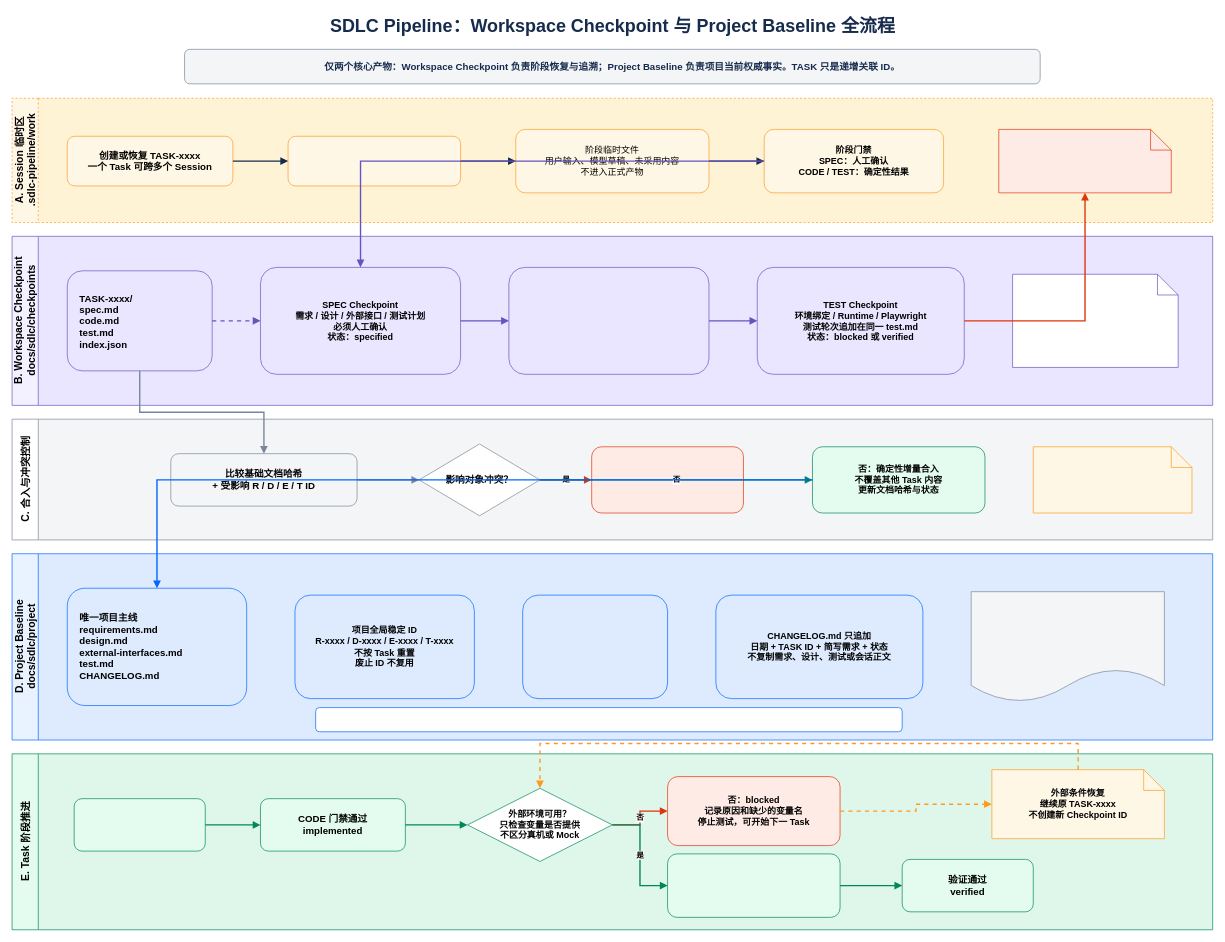
The diagram is 1225 pixels wide and 942 high, and some of its shapes have lost their labels. The centre of each missing label's shape, as x and y in pixels:
Checkpoint 写入成功后 删除对应 Session 临时文件: point 1084,161
CODE Checkpoint 改动文件 / 静态检查 / 单元测试 正常自动生成 状态：implemented: point 608,320
current.json（仅索引） 文档路径 / 锚点 / 哈希 last_task_id / Task 状态 不存正文和敏感值: point 1067,646
SPEC 确认 specified: point 139,824
Task 当前状态 specified implemented blocked verified: point 595,646
一个 Task 只有一套三个 Checkpoint 不单独编号；Task 进行中可原子更新 Task 完成后冻结并长期保留: point 1095,320
不建快照目录 · 不绑定 Git · 不设 Baseline 编号 · Release 本轮不考虑: point 608,719
允许多个未完成 Task 并存 blocked Task 不妨碍新 Task 恢复时仍使用原 TASK ID: point 1112,479
是：停止自动合入 标记 conflict 请求人工确认: point 667,479
是：接口验证 + Runtime + Playwright 失败则同一 test.md 追加 Round: point 753,885
读取当前 Project Baseline + 相关未完成 Checkpoint: point 374,161
